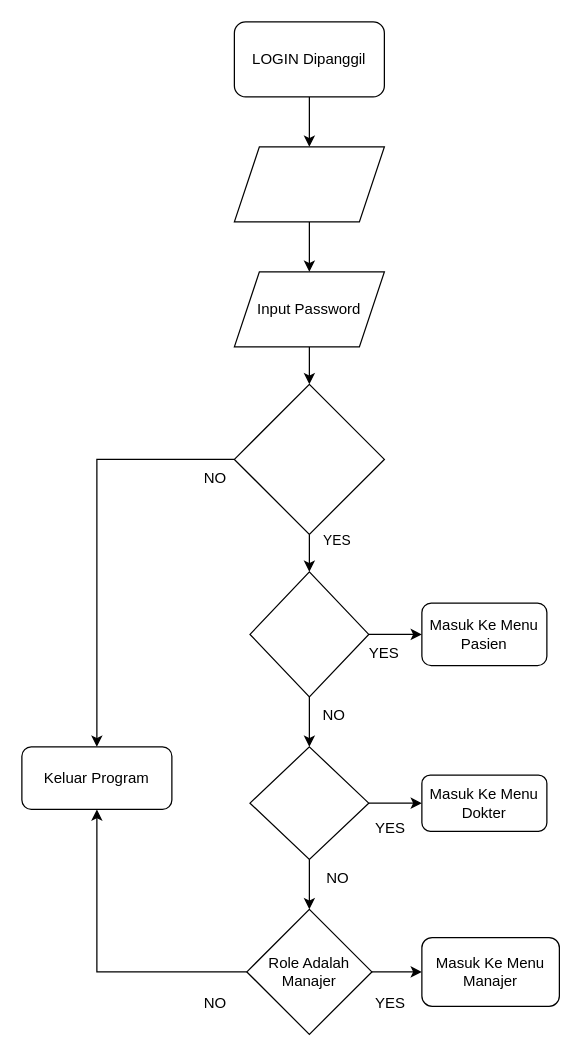
The diagram is 581 pixels wide and 1056 high, and some of its shapes have lost their labels. The centre of each missing label's shape, as x and y in pixels:
Cek Username & Password Ada di Database: (x=308, y=458)
Input Username: (x=308, y=184)
Role Adalah Dokter: (x=309, y=802)
Role Adalah Pasien: (x=309, y=634)
